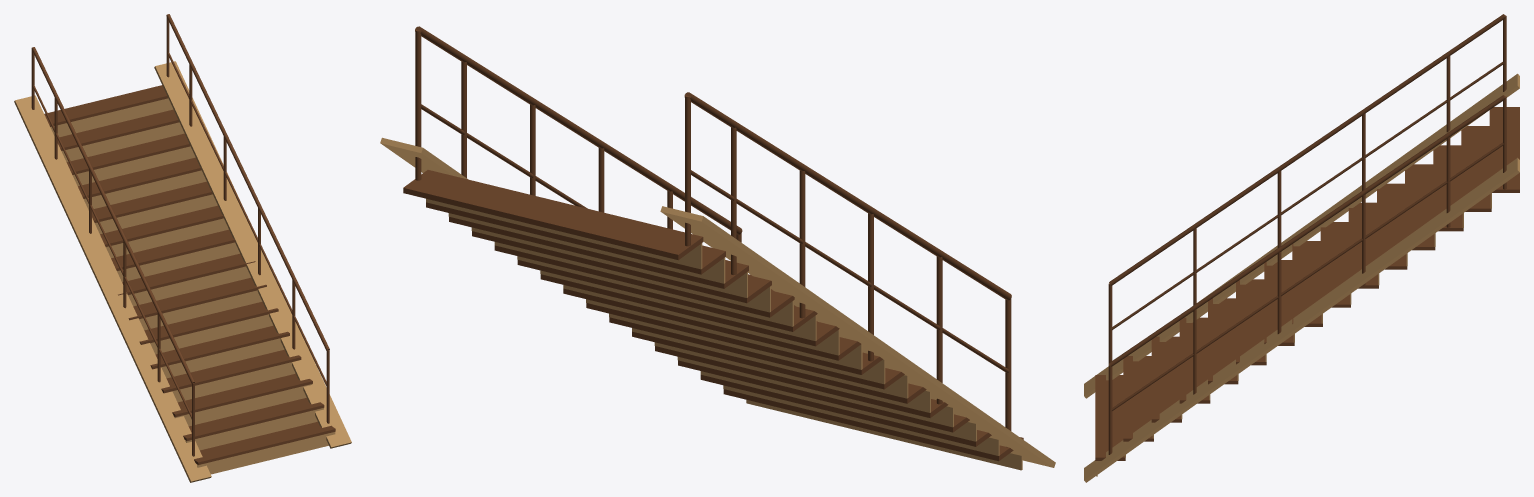
Rendered from circulation.stair.timber_1800.glb.
The picture shows the model from 3 angles, left to right: view 1: azimuth 30°, elevation 25°; view 2: azimuth 150°, elevation 25°; view 3: azimuth 270°, elevation 25°; orthographic projection. The views are drawn at different scales.
Parts seen in each view (by area): view 1: flight__softwood, flight__hardwood, balustrade__hardwood; view 2: flight__hardwood, flight__softwood, balustrade__hardwood; view 3: flight__hardwood, flight__softwood, balustrade__hardwood.
Boxes of the visible parts, x1,y1,x2,y2 form: flight__softwood: (14, 61, 351, 482); flight__hardwood: (44, 85, 335, 464); balustrade__hardwood: (31, 14, 329, 456); flight__hardwood: (403, 170, 1023, 461); flight__softwood: (380, 137, 1055, 470); balustrade__hardwood: (415, 26, 1011, 447); flight__hardwood: (1095, 107, 1519, 460); flight__softwood: (1084, 73, 1519, 482); balustrade__hardwood: (1108, 14, 1506, 454).
Bounding box in the file's own units: 2.03 × 3.73 × 3.87.
